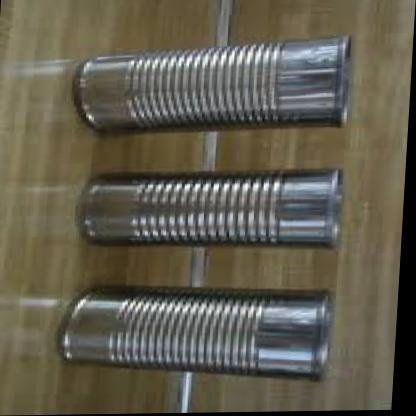trash: (75, 36, 349, 129), (61, 289, 328, 378), (80, 171, 338, 244)
